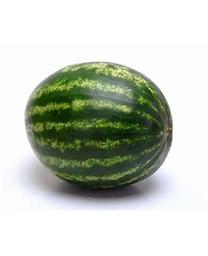watermelon: (24, 61, 174, 195)
